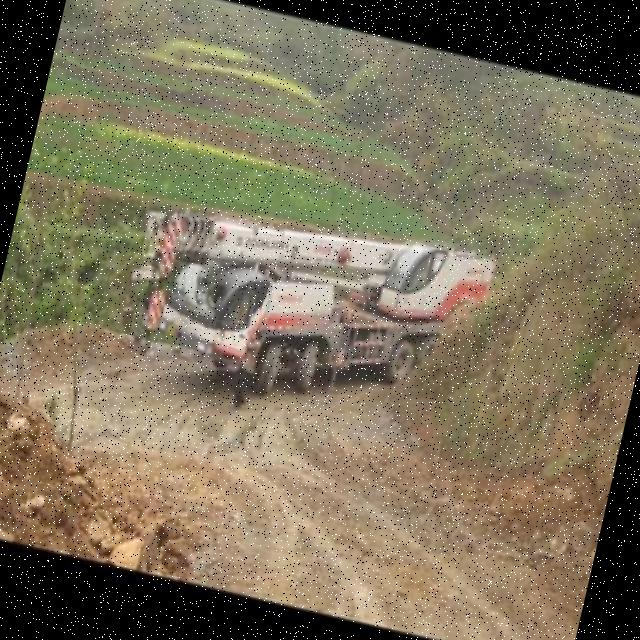Mobile Crane: (109, 173, 508, 444)
